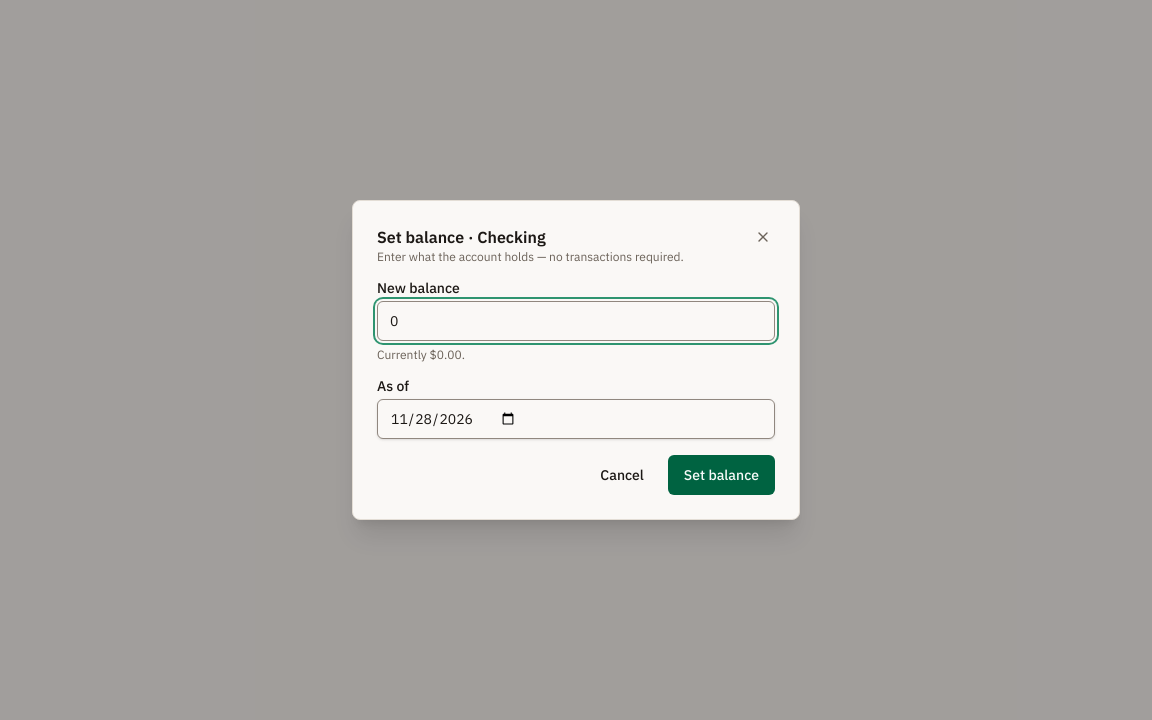
Test: SetBalanceModal › converts the unexplained plug into a transaction (dyy4)
The image size is (1152, 720).
Step 1. Replace the text in the field labelled "New balance" with "500" → (576, 321), box [377, 301, 775, 341]
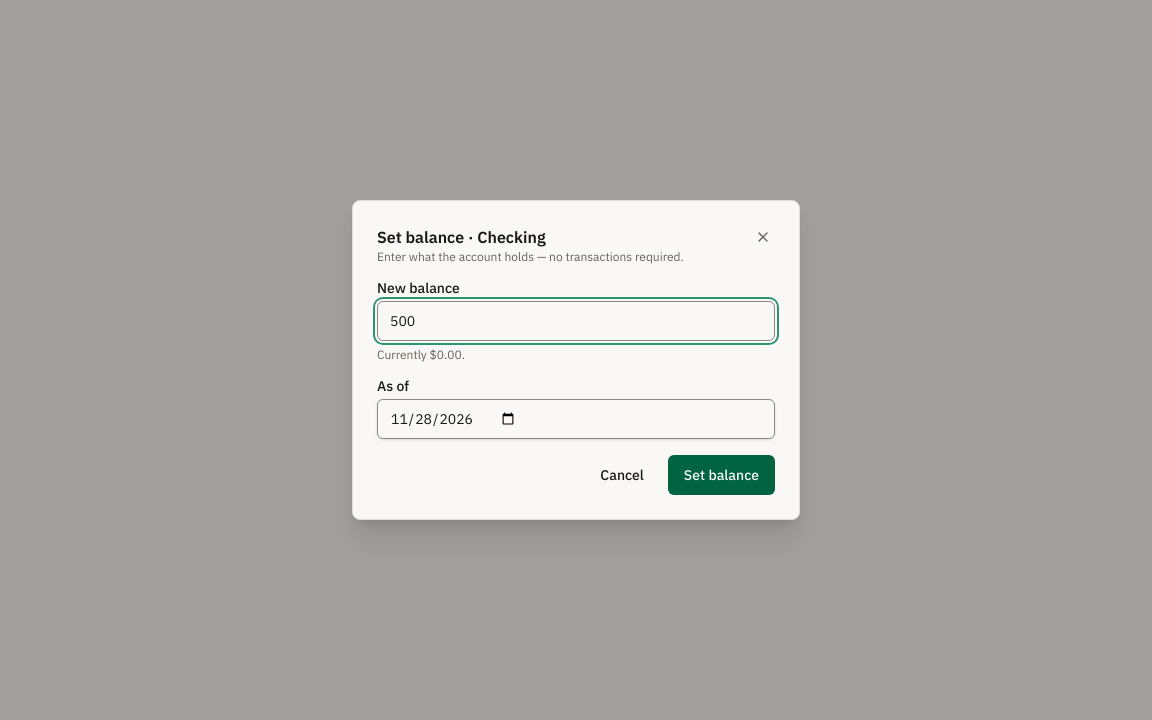
Step 2. Click the button "Set balance" → (721, 475), box [668, 455, 775, 495]
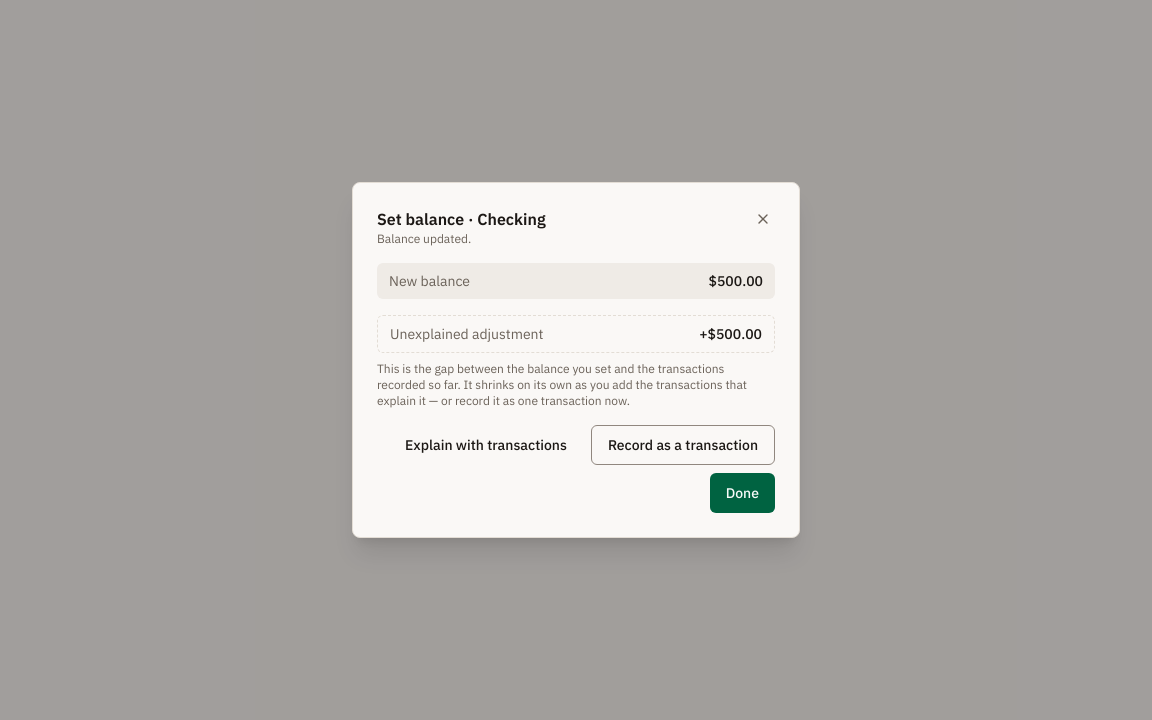
Result: the text "Unexplained adjustment" is shown at [390, 324, 544, 344]
Step 3. Click the button "Record as a transaction" → (683, 445), box [591, 425, 775, 465]
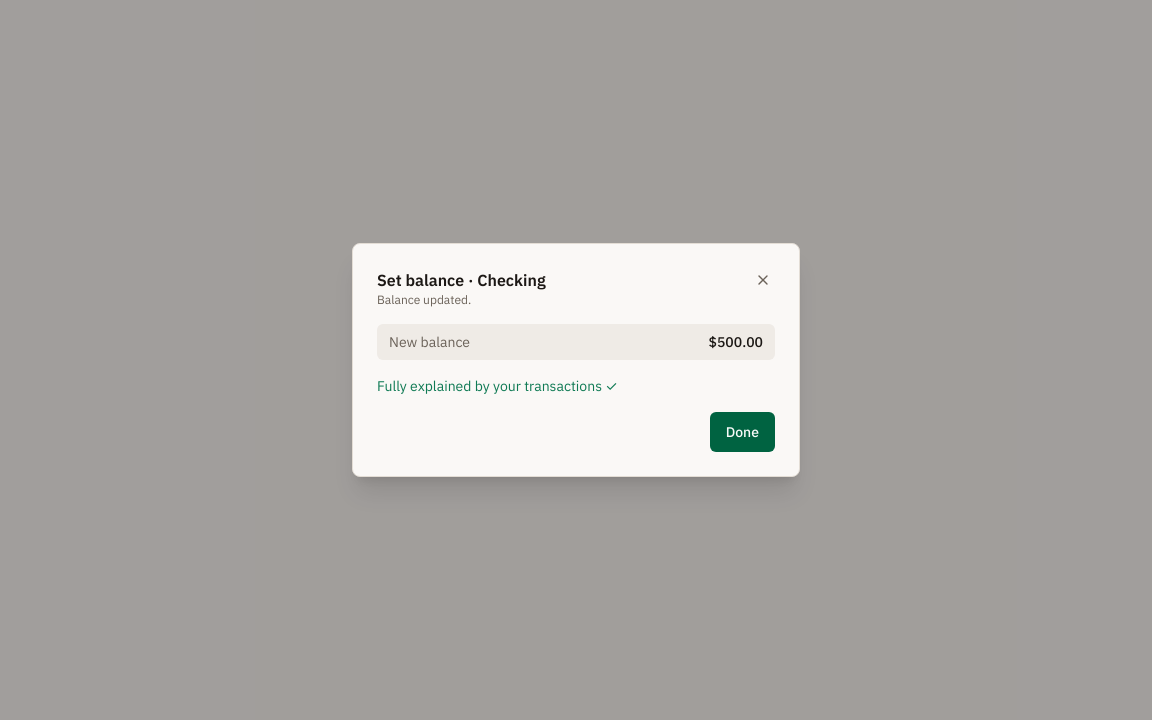
Result: the text "Fully explained by your transactions ✓" is shown at [377, 377, 618, 395]
